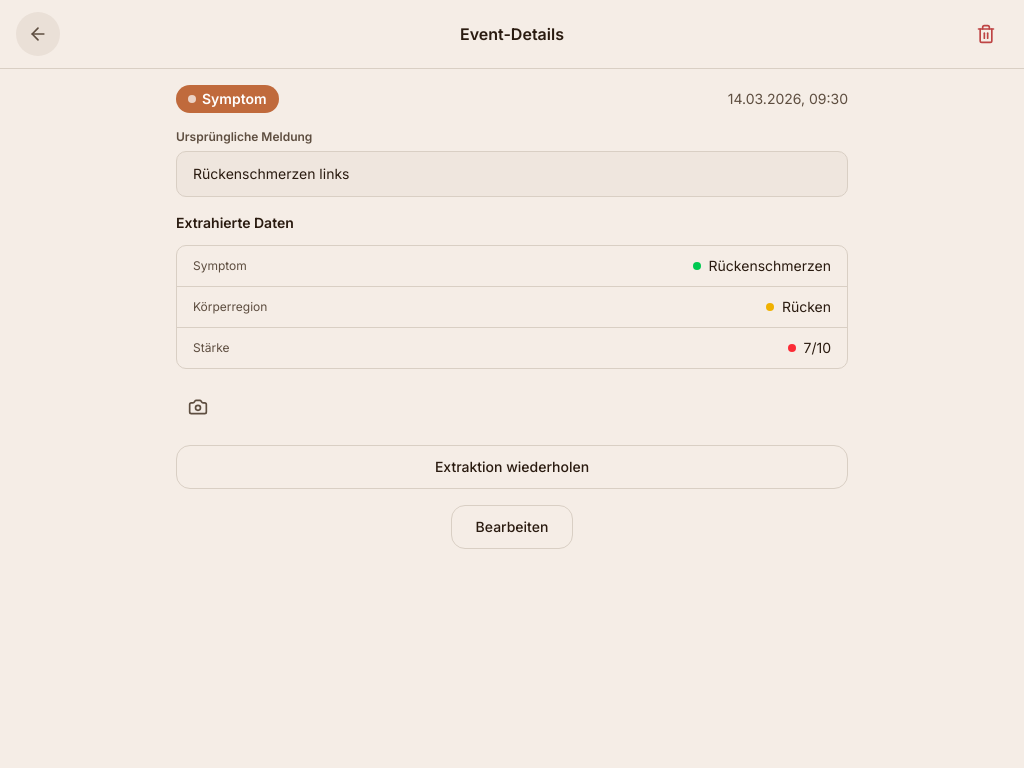
EventDetailView › zeigt Netzwerk-Fehlermeldung bei fetch-Exception
Click the button "Extraktion wiederholen": (512, 467) [176, 445, 848, 489]
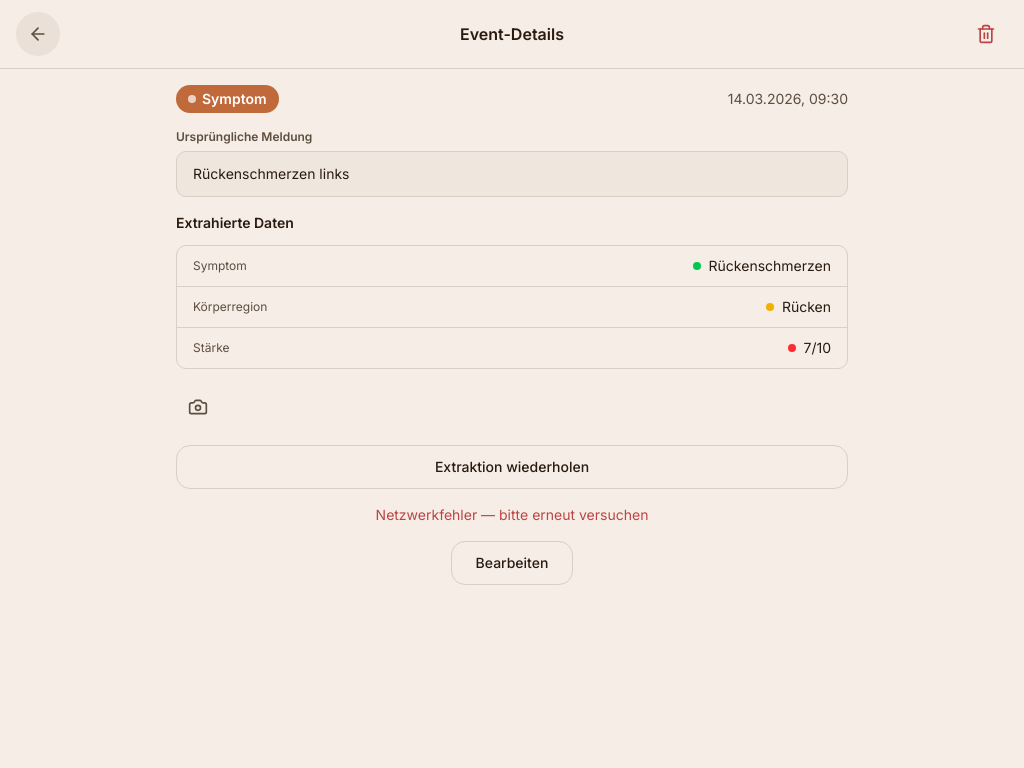
Expected: the text "Netzwerkfehler — bitte erneut versuchen" is shown, [376, 506, 648, 523]
